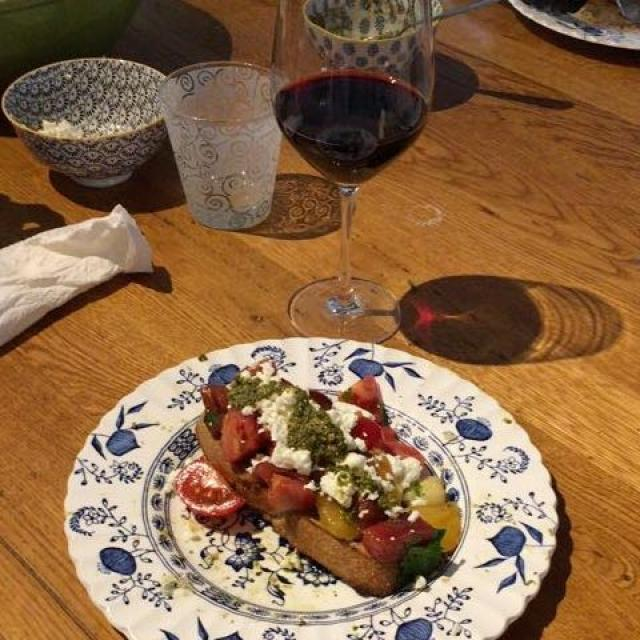cheese: (262, 381, 417, 530)
sauce: (228, 366, 390, 512)
water: (159, 123, 281, 222)
wine: (282, 77, 413, 178)
